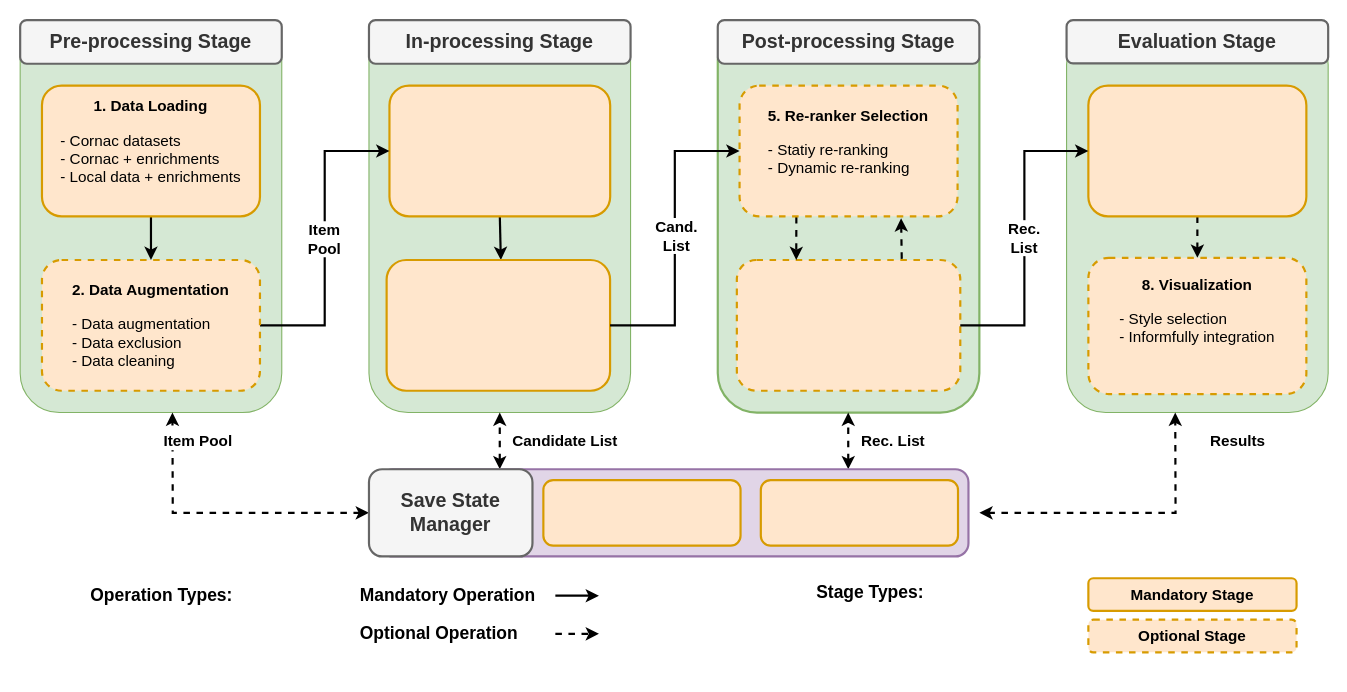
Image size: 1347x692. Some labels were removed from this diagram. Each missing label, with the box of its shape:
3. Data Splitting - Custom splitting - Statistical analysis - Redundancy checks: (388, 84, 611, 217)
4. Model Selection - Normative models - Random walks - Neural models: (385, 258, 611, 391)
6. User Simulator - Define user model - Set iterations/duration: (735, 258, 961, 391)
7. Metrics - Normative diversity - Traditional diversity: (1087, 84, 1307, 217)
Read/Retrieve Stage Results: (759, 479, 959, 546)
Write/Store Stage Results: (542, 479, 741, 546)
